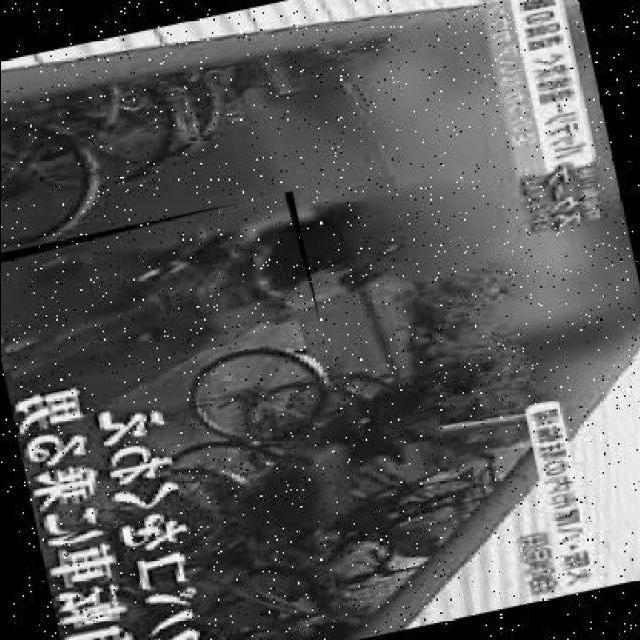bicycle: (2, 190, 322, 392)
